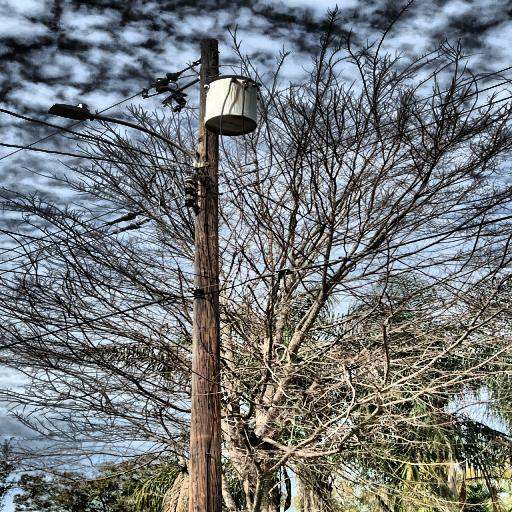pole: (177, 26, 247, 512)
street light: (47, 102, 211, 170)
transformer: (201, 74, 263, 136)
